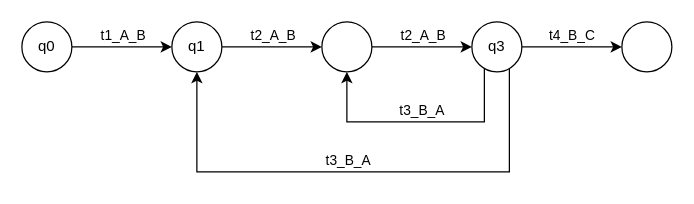
Some shapes in this 694 by 204 pixel diagram are drawn without their labels. The centre of each missing label's shape, as x and y in pixels:
q2: (x=346, y=46)
q4: (x=646, y=46)
